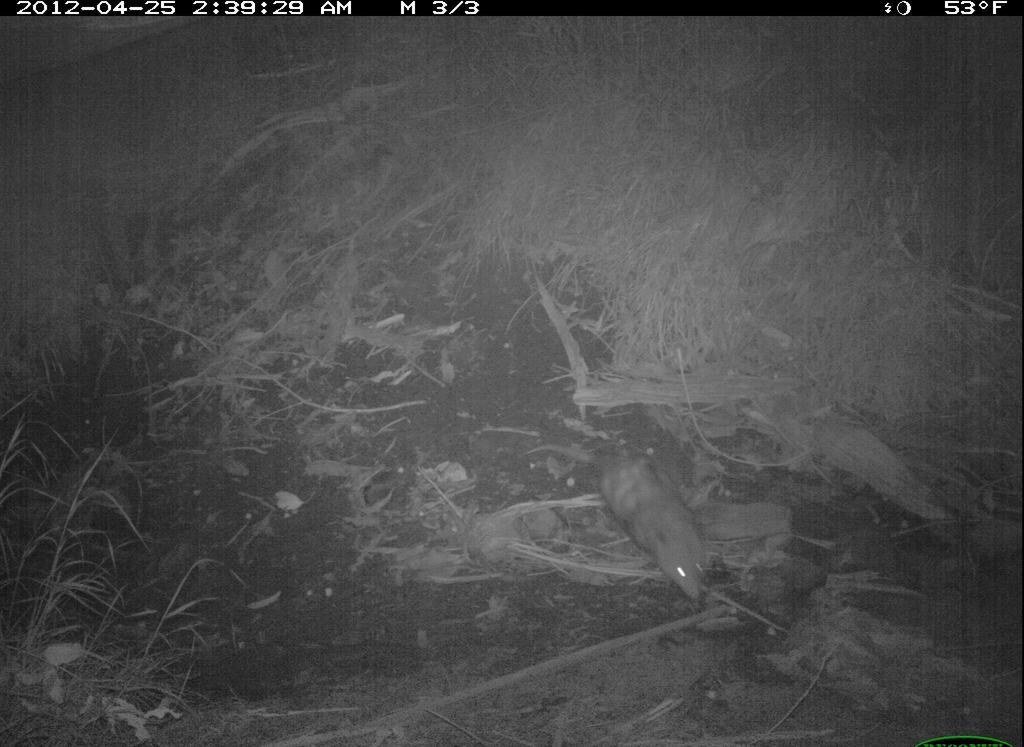opossum: (518, 437, 715, 610)
